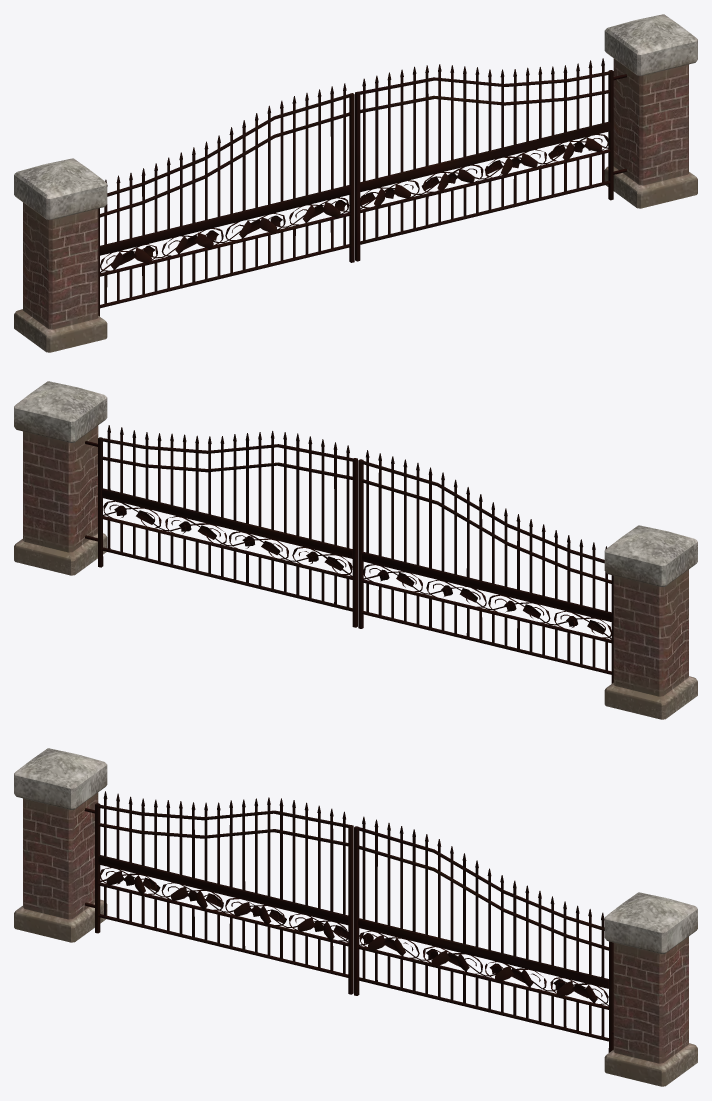
File: gate.glb
3 views of the same model, one above another, from view 1: azimuth 30°, elevation 25°; view 2: azimuth 150°, elevation 25°; view 3: azimuth 330°, elevation 25° (orthographic).
Visible parts, largest first — view 1: polySurface633_lambert1_0, polySurface465_blinn2_0, polySurface466_blinn1_0; view 2: polySurface633_lambert1_0, polySurface465_blinn2_0, polySurface466_blinn1_0; view 3: polySurface633_lambert1_0, polySurface466_blinn1_0, polySurface465_blinn2_0.
Boxes of the visible parts, x1,y1,x2,y2 form: polySurface633_lambert1_0: (98, 58, 627, 316); polySurface465_blinn2_0: (14, 158, 107, 352); polySurface466_blinn1_0: (604, 14, 697, 208); polySurface633_lambert1_0: (85, 425, 613, 683); polySurface465_blinn2_0: (604, 525, 697, 719); polySurface466_blinn1_0: (14, 381, 107, 575); polySurface633_lambert1_0: (84, 791, 613, 1052); polySurface466_blinn1_0: (604, 892, 697, 1086); polySurface465_blinn2_0: (14, 748, 107, 942).
Bounding box in the file's own units: 2.59 × 0.688 × 0.2426.
3 materials, 3 textured.
